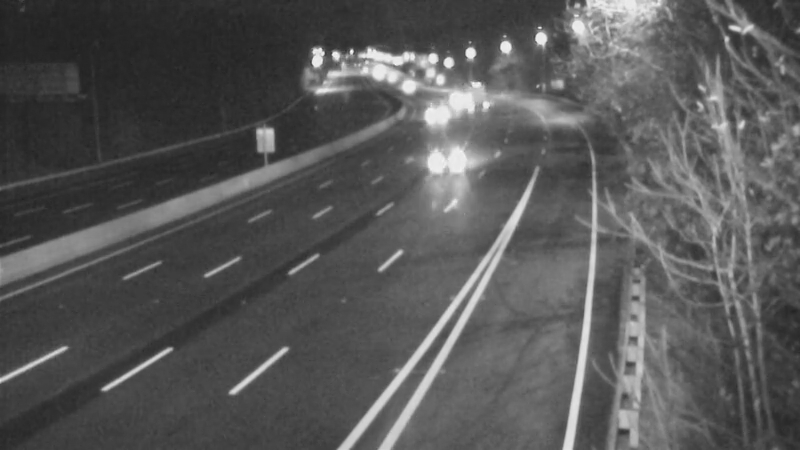vehicle: (407, 116, 487, 196), (382, 64, 432, 114), (447, 71, 497, 121), (428, 73, 478, 123), (401, 89, 451, 139)
